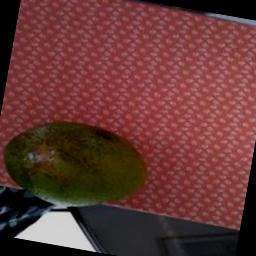Orange Unripe: (0, 103, 161, 229)
